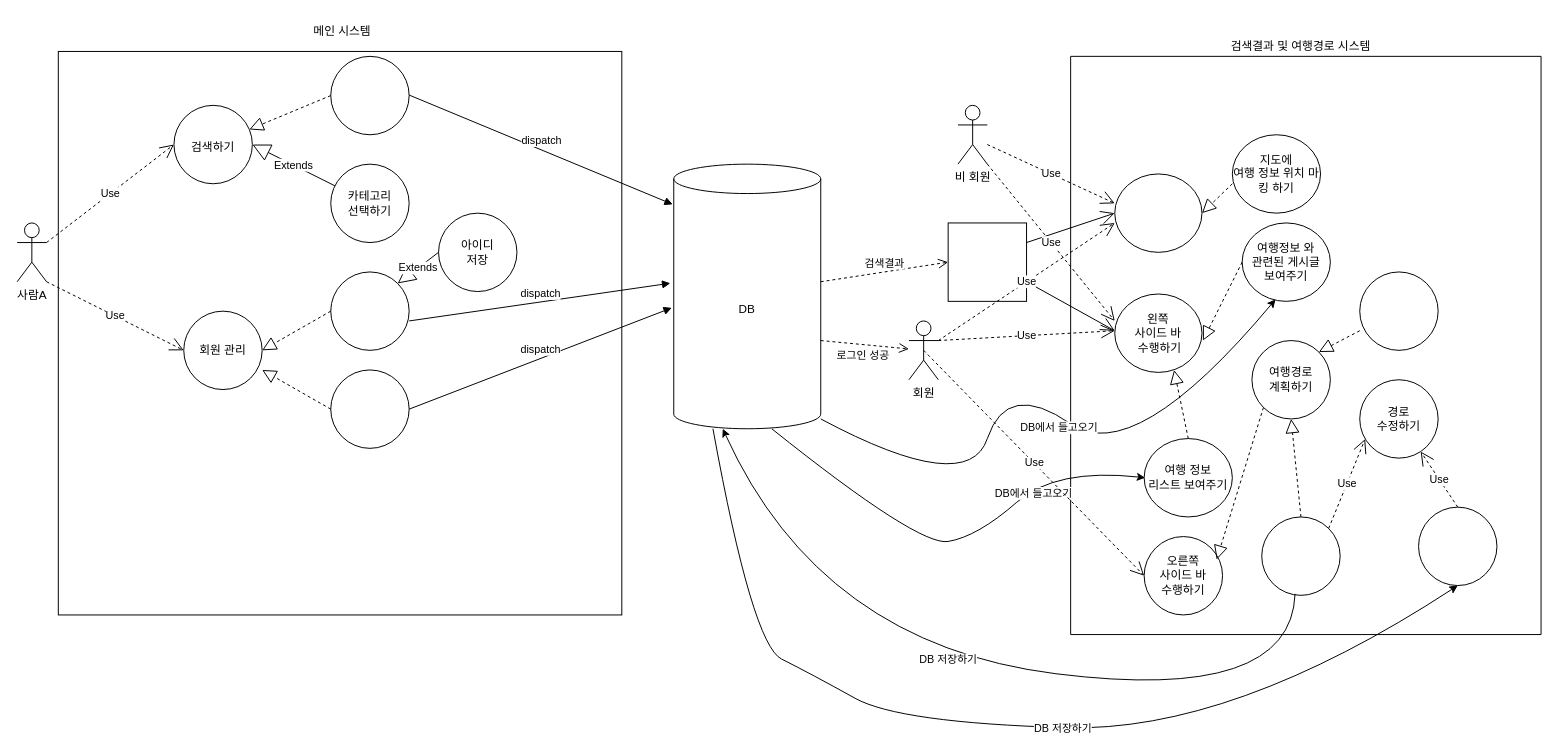
Image size: 1558x752. Some labels were removed from this diagram. Each missing label, with the centre of its shape:
검색 결과 덩어리: [987,261]
경로 가져오기: [1457,546]
경로 마킹하기: [1398,310]
경로 저장하기: [1300,555]
로그인 하기: [369,310]
지도에서 수행하기: [1158,212]
지역기반 검색하기: [369,95]
회원가입 하기: [369,408]
